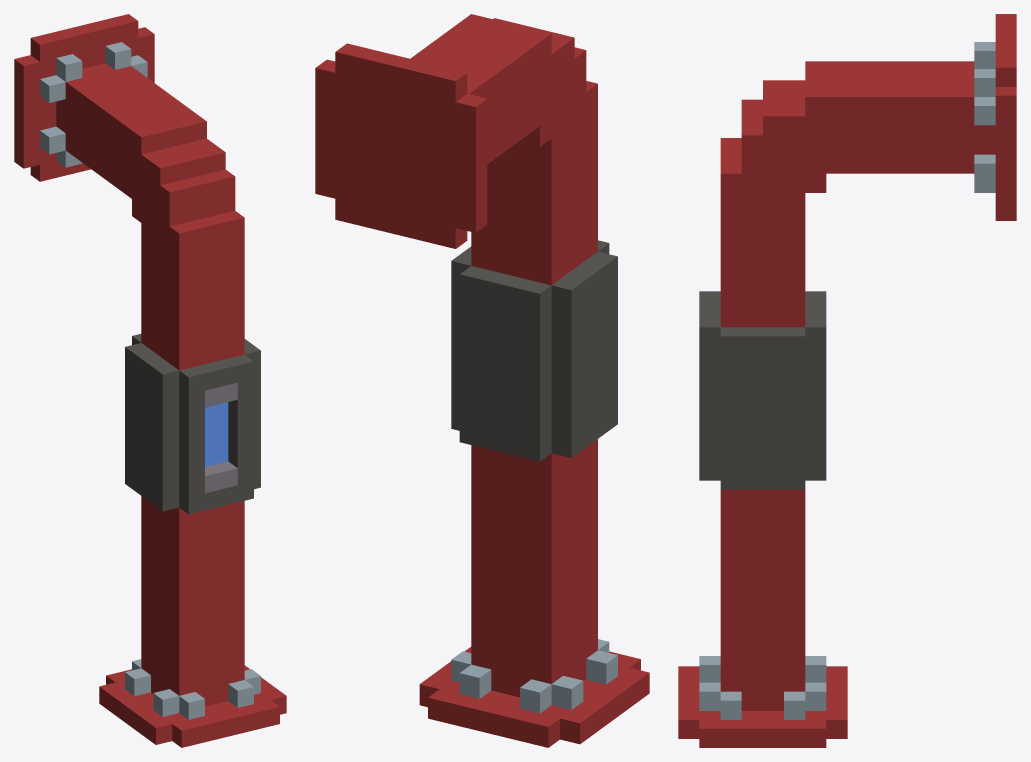
File: TubeLookHole.obj
The picture shows the model from 3 angles, left to right: view 1: azimuth 30°, elevation 25°; view 2: azimuth 150°, elevation 25°; view 3: azimuth 270°, elevation 25°; orthographic projection. The views are drawn at different scales.
Size of the model in its own units: 8 by 35 by 16.
1 material, 1 textured.
